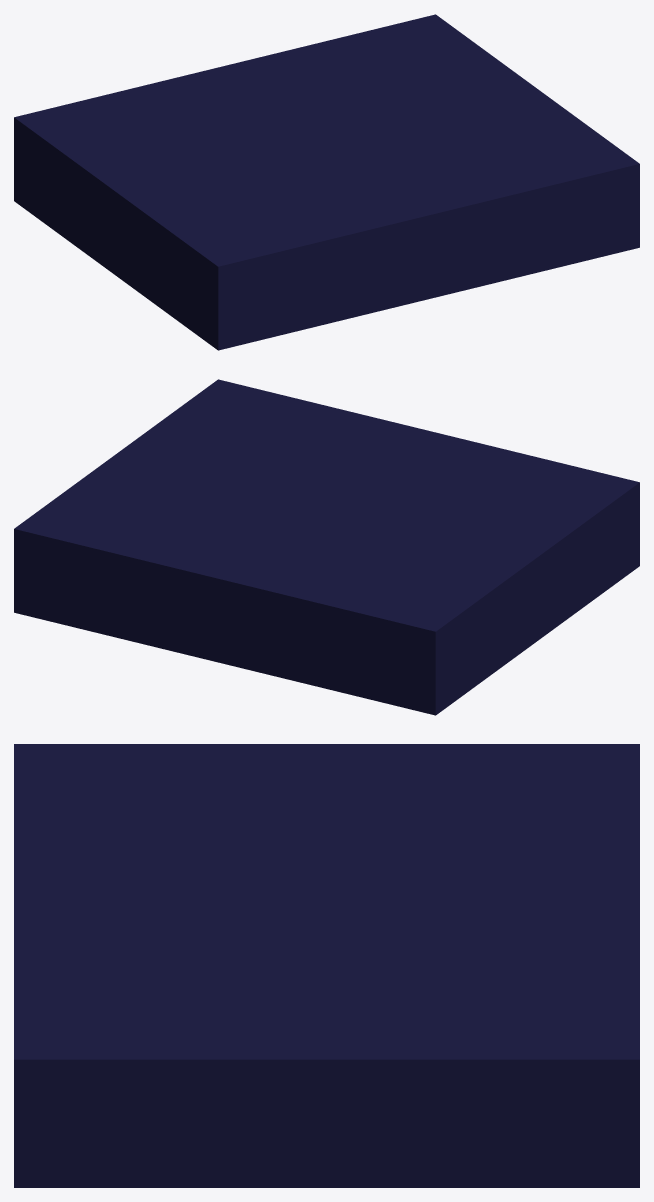
Rendered from locker_padre.fbx.
3 renders of one model, top to bottom at view 1: azimuth 30°, elevation 25°; view 2: azimuth 150°, elevation 25°; view 3: azimuth 270°, elevation 25°, orthographic. The views are drawn at different scales.
Parts seen in each view (by area): view 1: locker; view 2: locker; view 3: locker.
Part boxes in pixels (<box>): locker: <box>14,14,639,350</box>; locker: <box>14,379,639,715</box>; locker: <box>14,744,639,1187</box>.
Bounding box in the file's own units: 190 × 36.46 × 159.
